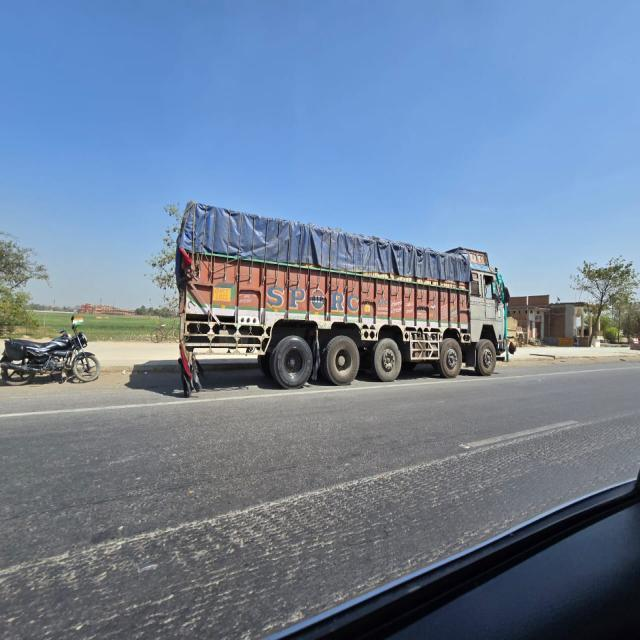covered: (175, 194, 476, 382)
